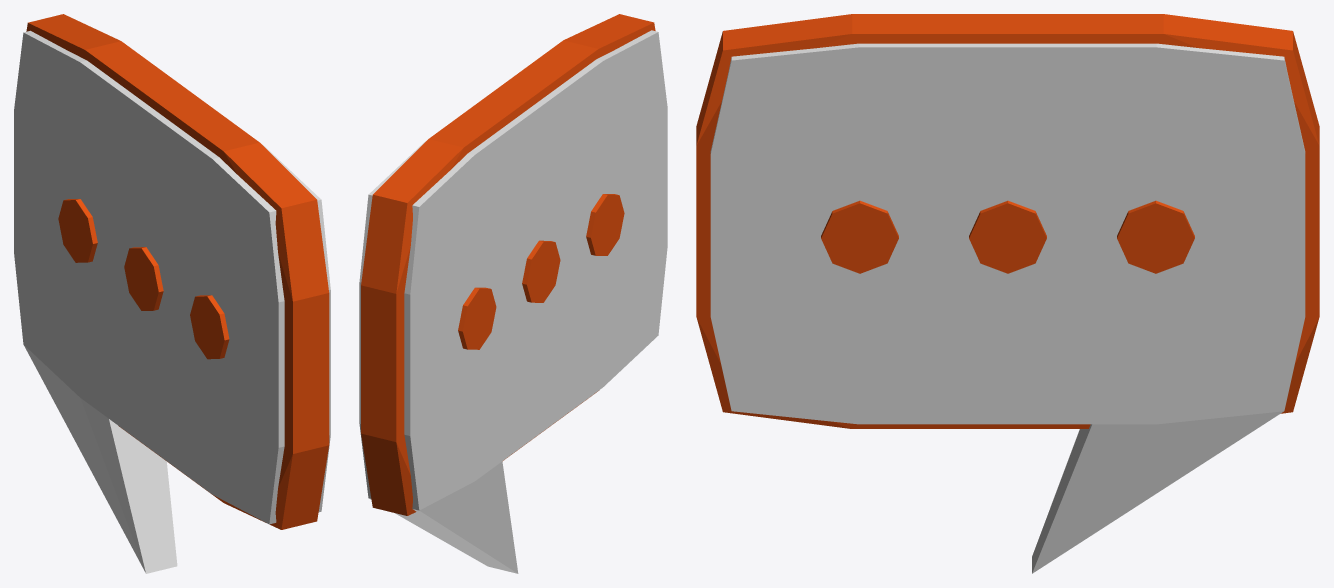
Rendered from speech_bubble.glb.
3 views of the same model, side by side, from view 1: azimuth 30°, elevation 25°; view 2: azimuth 150°, elevation 25°; view 3: azimuth 270°, elevation 25° (orthographic). The views are drawn at different scales.
Visible parts, largest first — view 1: speech bubble; view 2: speech bubble; view 3: speech bubble.
Boxes of the visible parts, x1,y1,x2,y2 form: speech bubble: (14, 14, 330, 573); speech bubble: (359, 14, 667, 573); speech bubble: (696, 14, 1319, 573).
Bounding box in the file's own units: 0.1034 × 0.7671 × 0.8.
